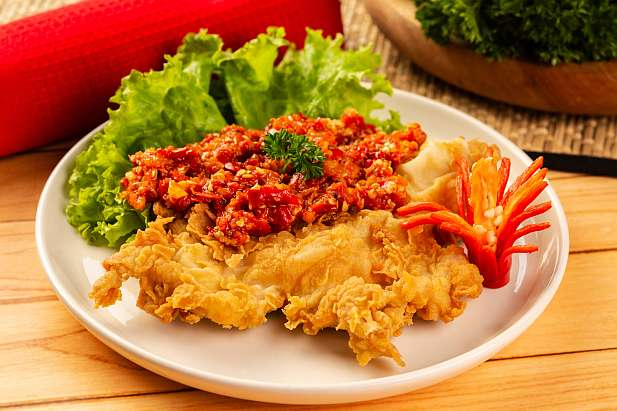ayam_geprek: (108, 141, 460, 352)
